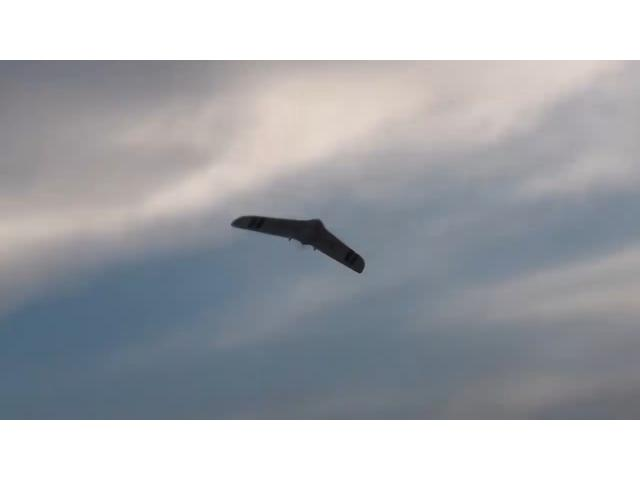Anti-Drone: (232, 215, 364, 274)
